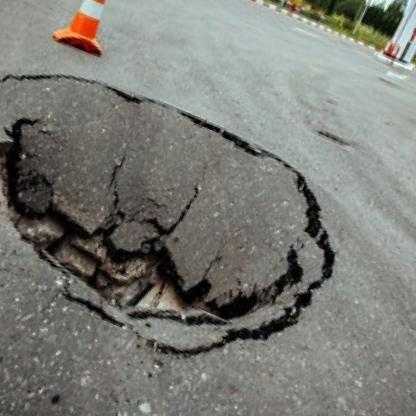pothole: (0, 52, 358, 379), (314, 125, 355, 154)
